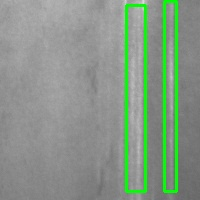scratches: (126, 5, 145, 191), (164, 1, 176, 191)
